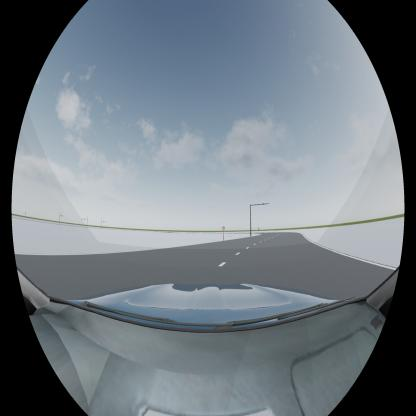Red Light: (262, 203, 266, 205)
